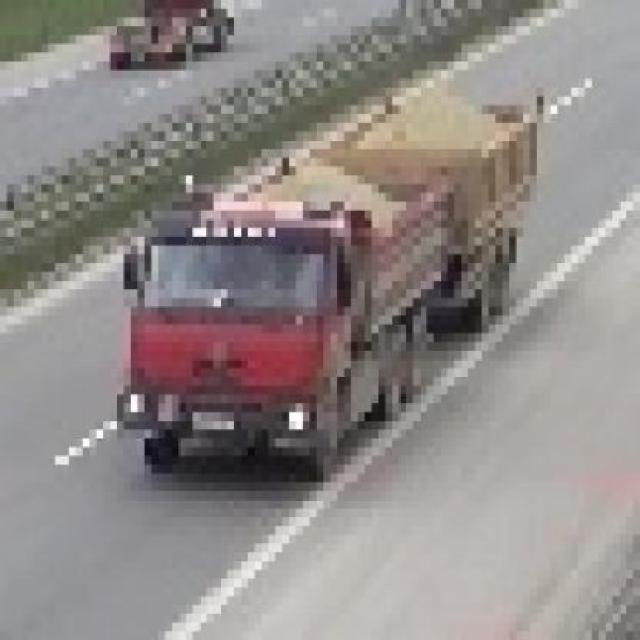truck: (111, 80, 545, 457)
